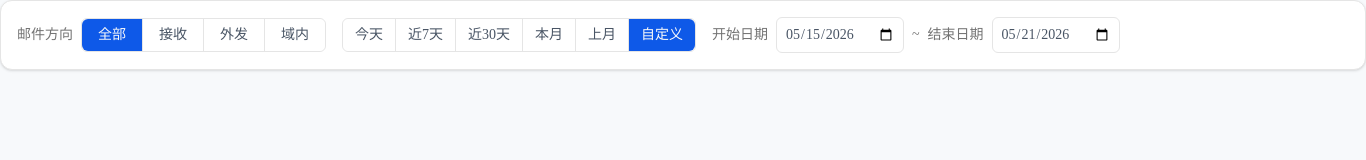
Test: FilterBar custom date range (GT-11979 / GT-11930) › does NOT propagate a cleared date
Clear the date field labelled "开始日期" at (840, 35), box [776, 17, 904, 53]
Wait 510 ms
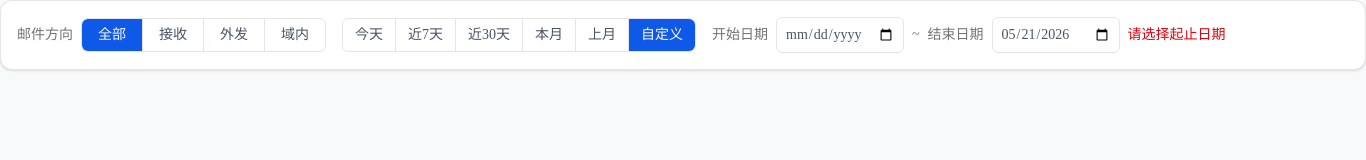
Expected: the message reads "请选择起止日期", [1128, 27, 1226, 42]
